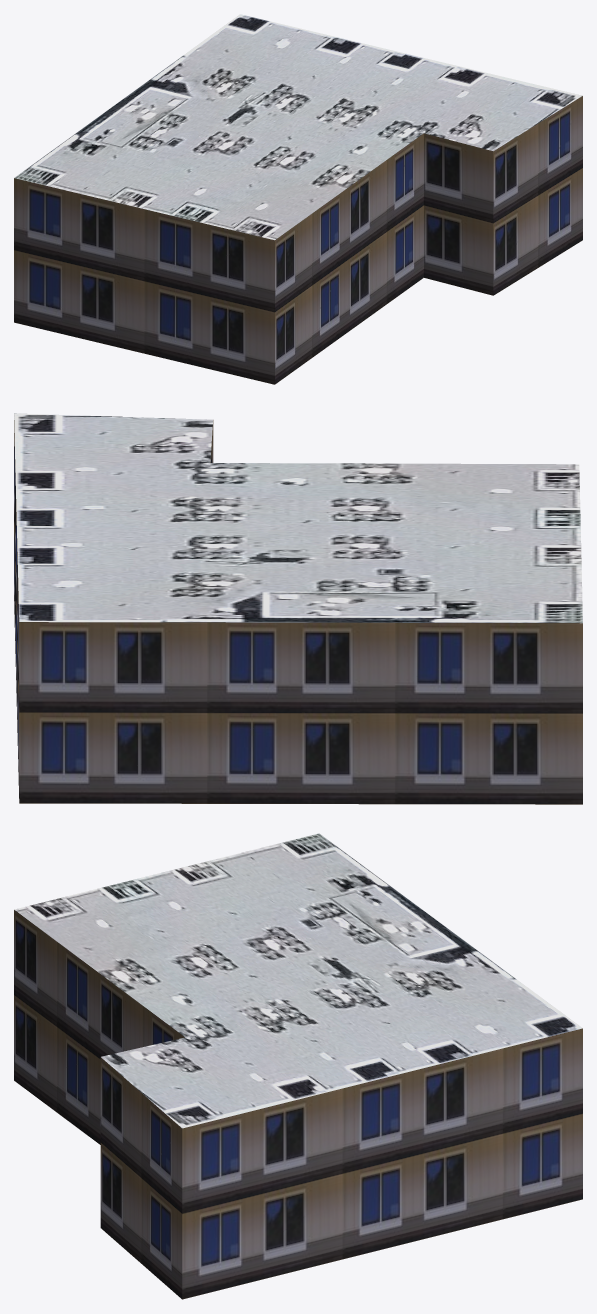
File: ResTex__60.fbx
3 views of the same model, one above another, from view 1: azimuth 30°, elevation 25°; view 2: azimuth 150°, elevation 25°; view 3: azimuth 270°, elevation 25° (orthographic). The views are drawn at different scales.
Parts seen in each view (by area): view 1: CityEngineMaterial_5_m, CityEngineMaterial_4_m; view 2: CityEngineMaterial_5_m, CityEngineMaterial_4_m; view 3: CityEngineMaterial_5_m, CityEngineMaterial_4_m.
Boxes of the visible parts, box(x1,y1,x2,y2) form: CityEngineMaterial_5_m: box(14, 96, 582, 384); CityEngineMaterial_4_m: box(14, 14, 582, 240); CityEngineMaterial_5_m: box(14, 420, 582, 804); CityEngineMaterial_4_m: box(14, 413, 582, 623); CityEngineMaterial_5_m: box(14, 910, 582, 1299); CityEngineMaterial_4_m: box(14, 833, 582, 1128).
Size of the model in its own units: 22.21 by 6 by 18.09.
Materials: 2 (2 with a texture image).
